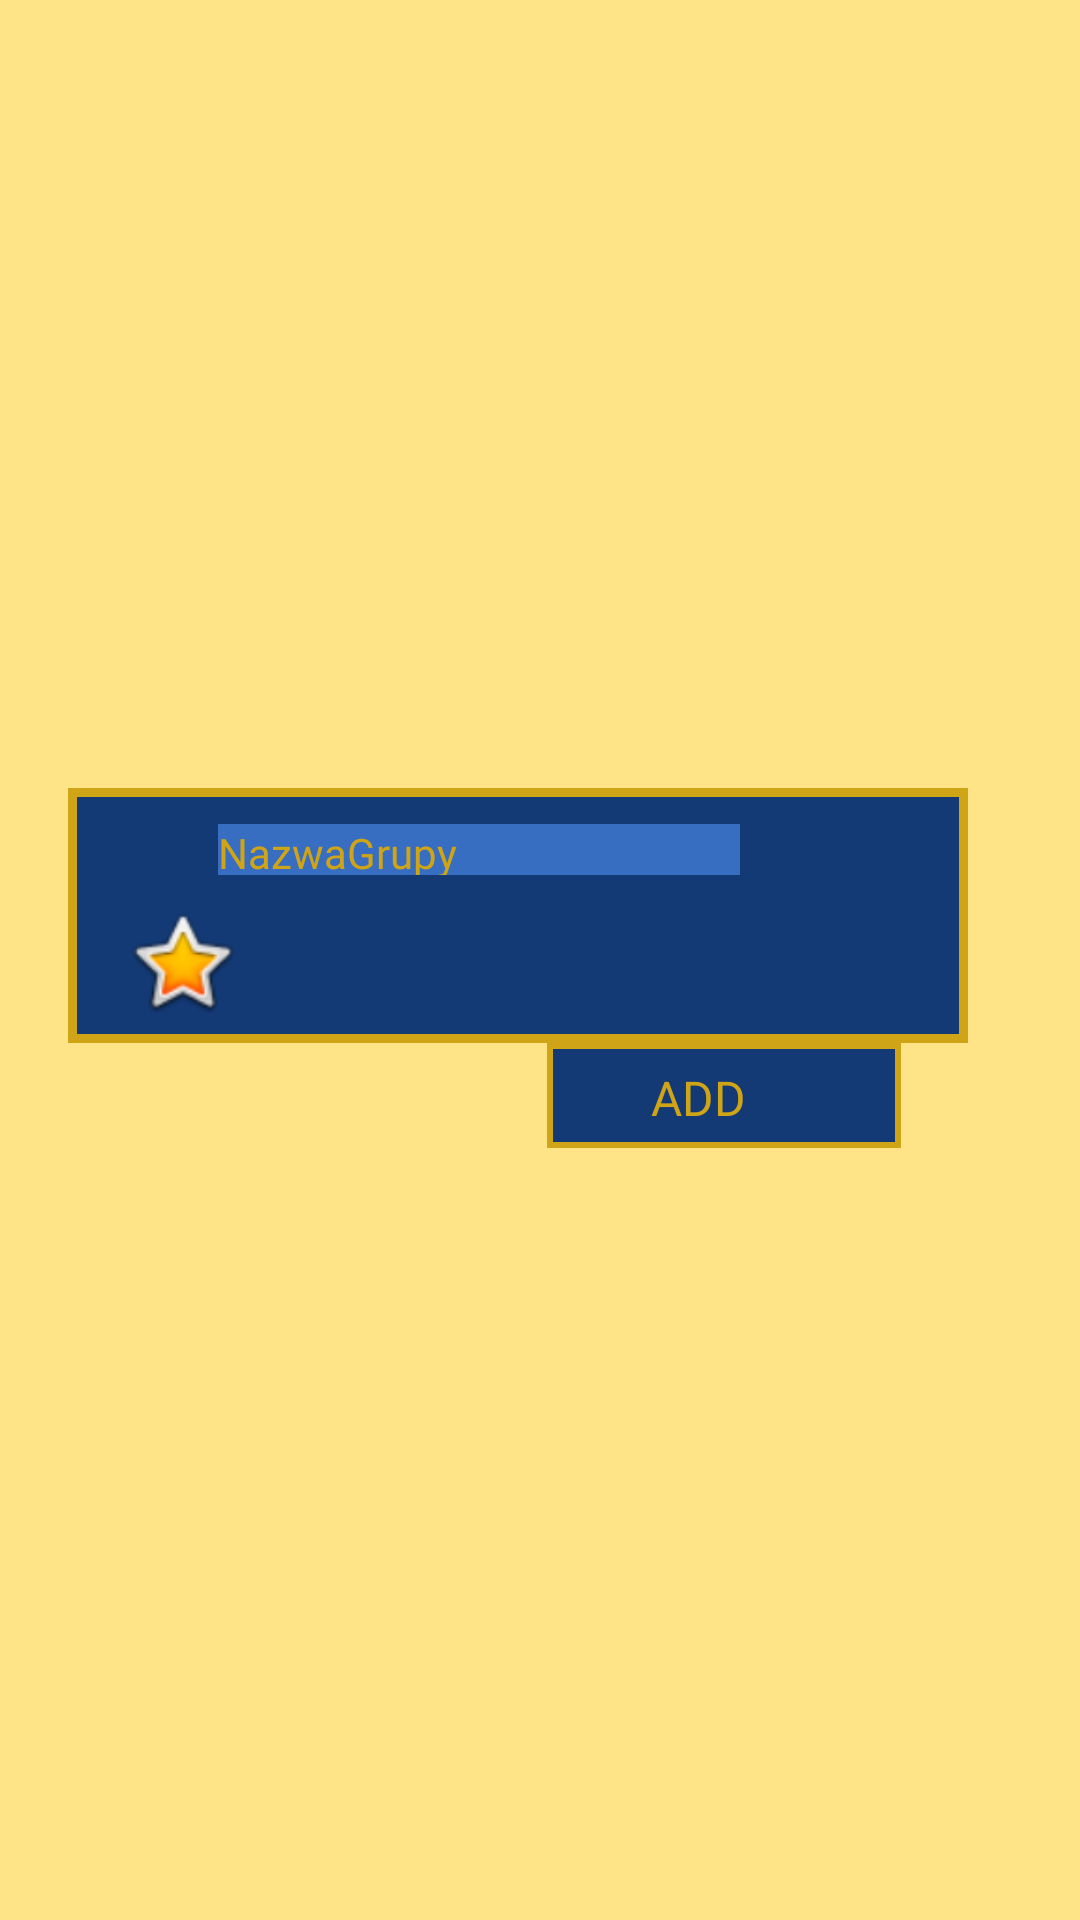

Where to tap for icons on this 1080*1920 app screen, as point (x, y):
star on: point (183, 963)
